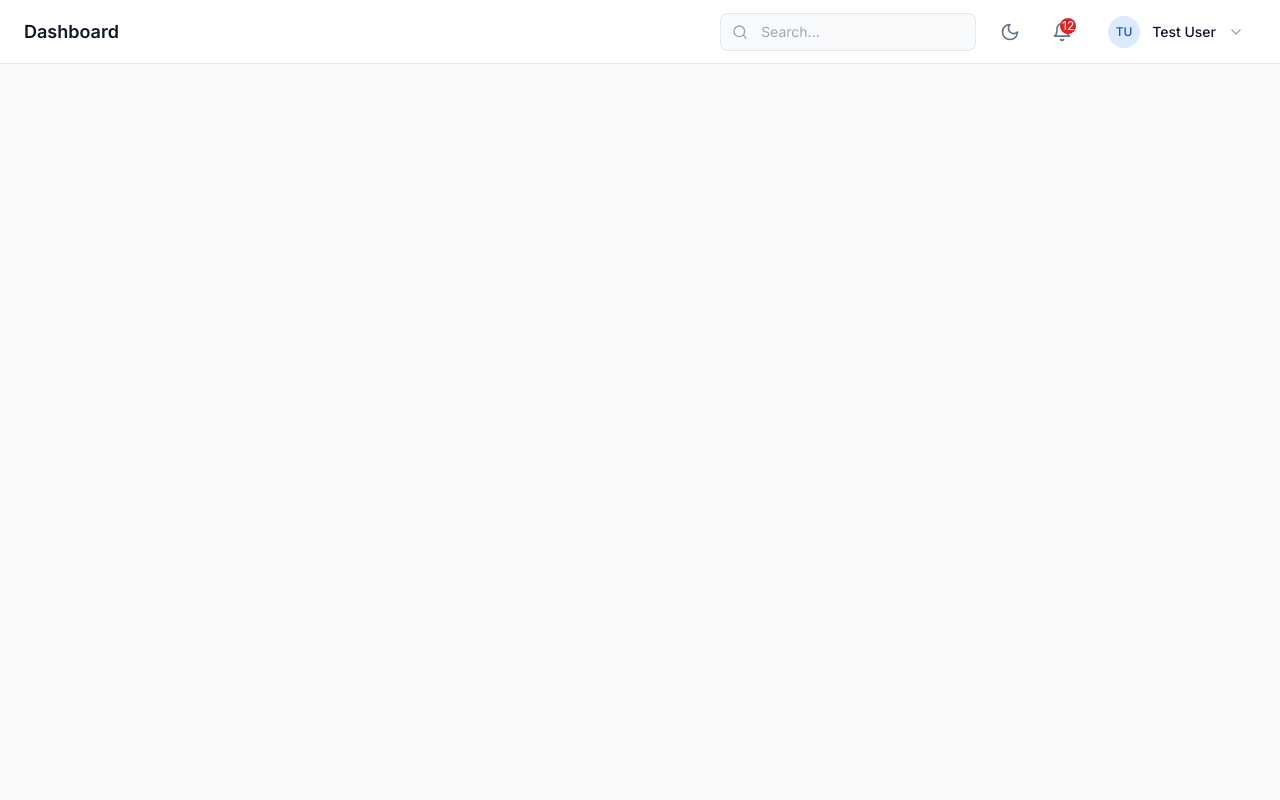
TopBar notification feed › loads only the recent server page while displaying the authoritative unread count
Click the button named "Notifications, 12 unread".
click(1062, 32)  # box [1044, 14, 1080, 50]
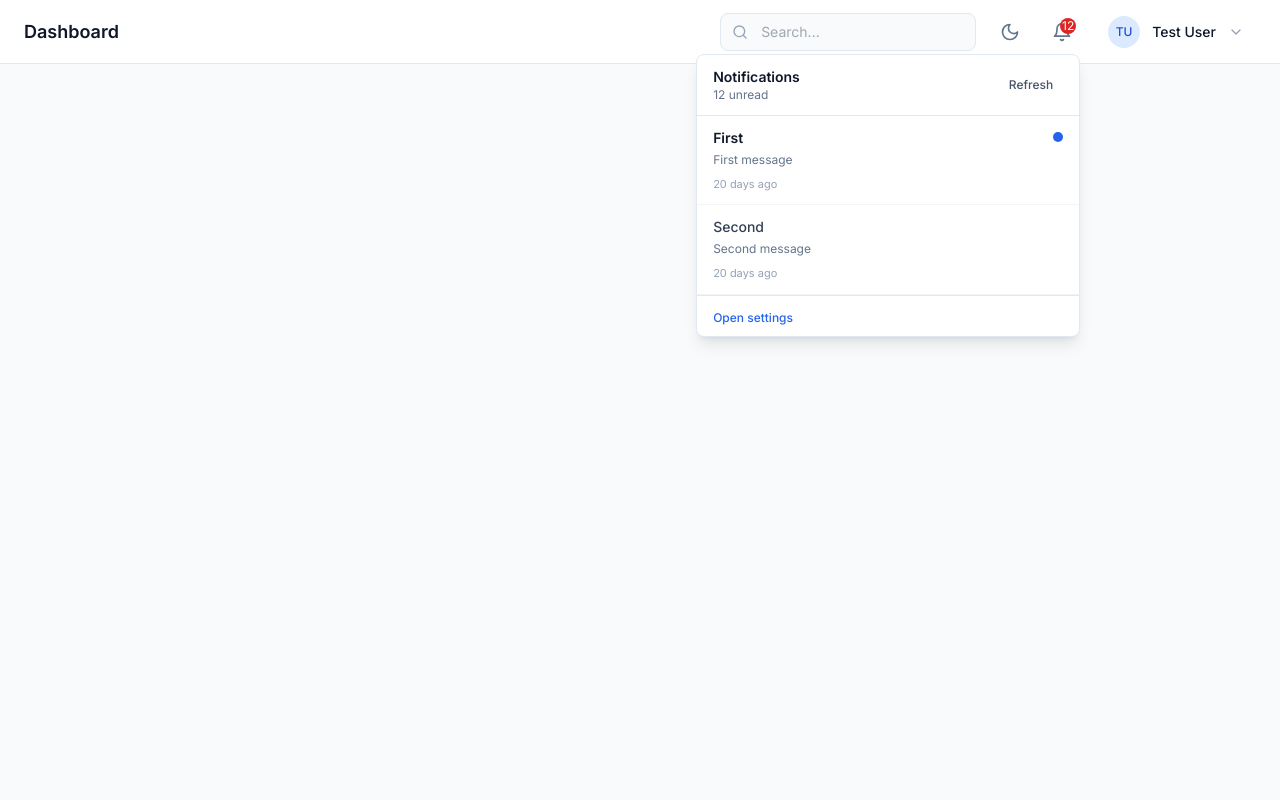
Check: the text "12 unread" is shown, box [713, 86, 768, 102]
Check: the text "First" is shown
Check: the text "Second" is shown, box [713, 218, 764, 235]
Click the text "First".
click(728, 137)  # box [713, 128, 743, 146]
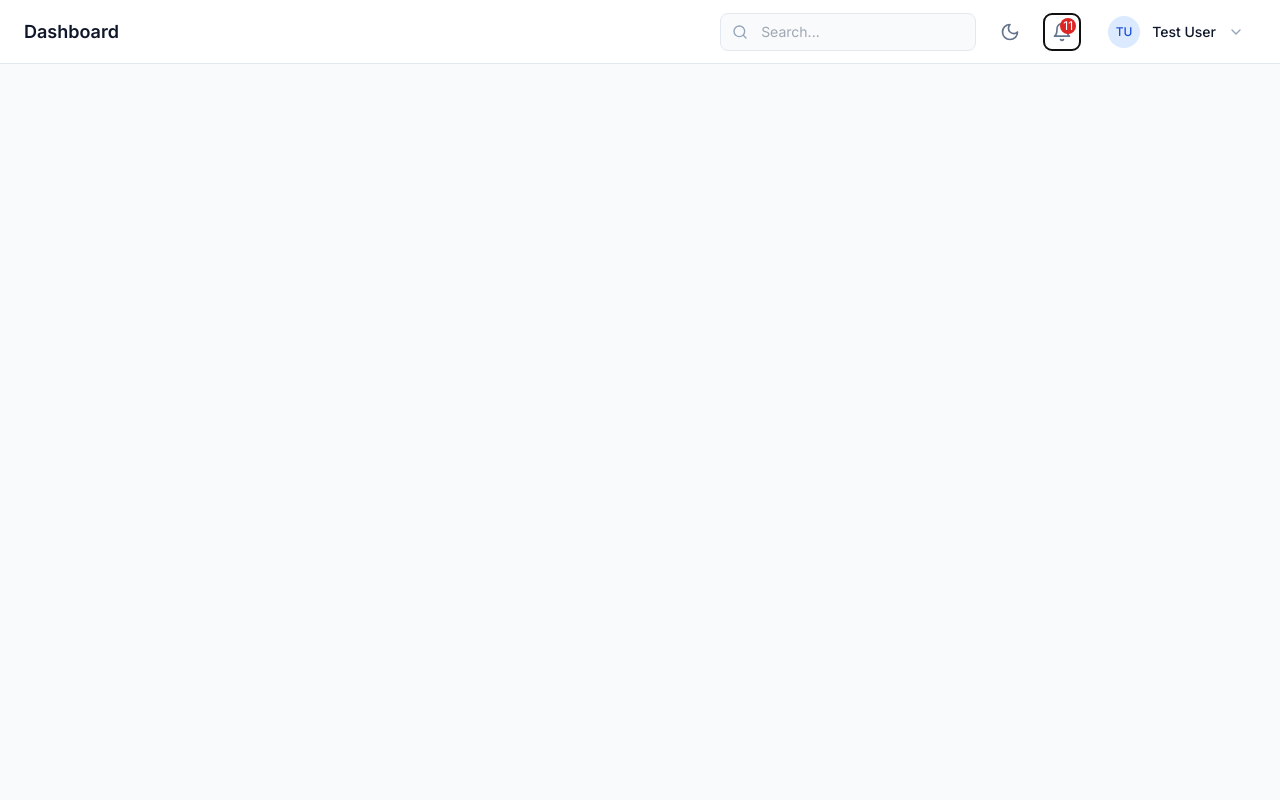
Check: the button named "Notifications, 11 unread" is shown, box [1044, 14, 1080, 50]
